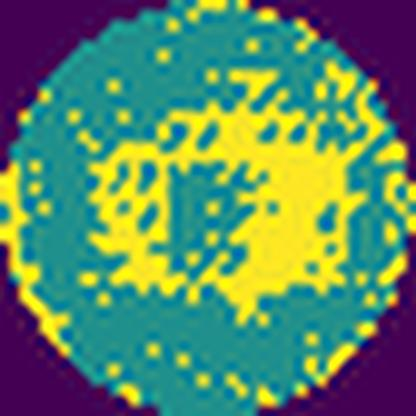Donut: (80, 86, 376, 332)
